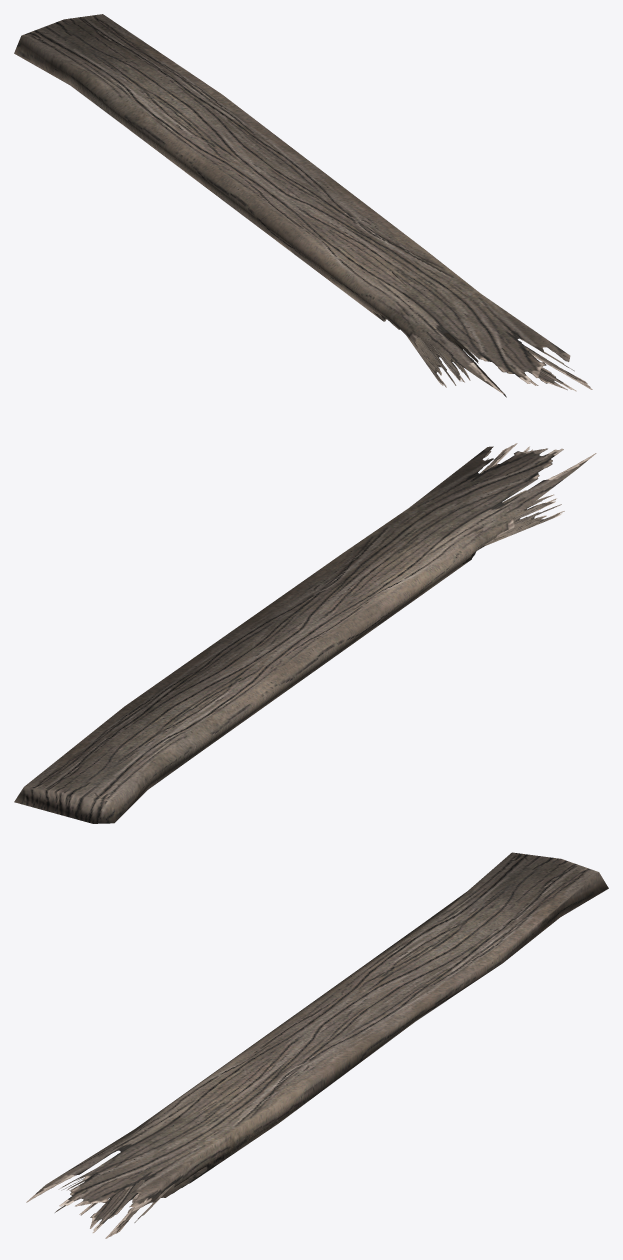
Rendered from WPlank_Splinted_01.fbx.
3 views of the same model, one above another, from view 1: azimuth 30°, elevation 25°; view 2: azimuth 150°, elevation 25°; view 3: azimuth 330°, elevation 25° (orthographic).
Parts seen in each view (by area): view 1: WPlank_01; view 2: WPlank_01; view 3: WPlank_01.
Part boxes in pixels (x1,y1,x2,y2): WPlank_01: [14, 14, 592, 397]; WPlank_01: [14, 443, 596, 823]; WPlank_01: [26, 852, 608, 1238].
Size of the model in its own units: 0.7242 by 0.1573 by 5.51.
